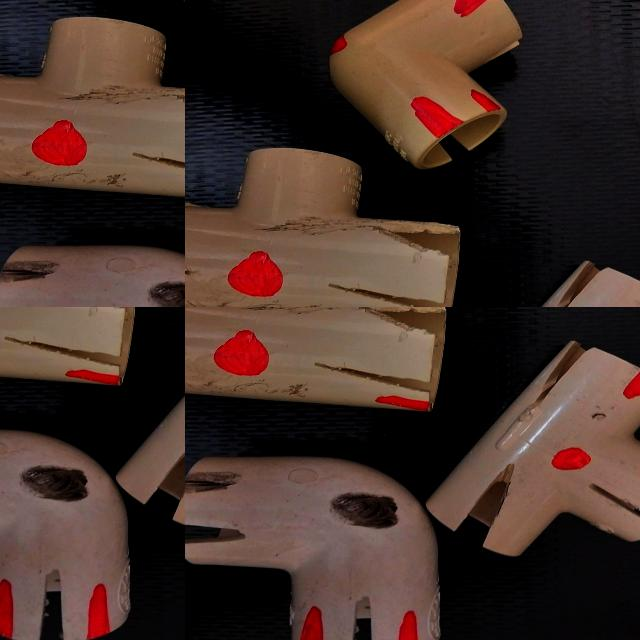Defective: (311, 359, 434, 393), (467, 474, 532, 532), (358, 307, 446, 340), (185, 511, 256, 551), (591, 479, 640, 528), (215, 334, 267, 377), (332, 496, 395, 529), (339, 591, 379, 640), (460, 496, 514, 530), (570, 346, 610, 372), (481, 466, 521, 490), (552, 449, 590, 472), (289, 307, 342, 319), (242, 307, 299, 318), (379, 402, 427, 414), (301, 612, 321, 640), (536, 378, 573, 393), (552, 358, 574, 380), (399, 616, 417, 640), (192, 481, 228, 492)
L Joint: (185, 455, 441, 640)
T Joint: (425, 341, 640, 561), (185, 307, 446, 414), (185, 0, 209, 37)
